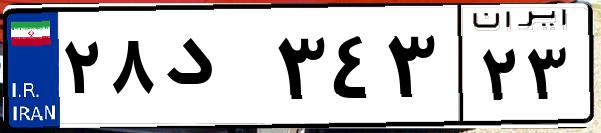2: (57, 26, 110, 100), (475, 38, 525, 113)
3: (270, 28, 330, 110), (385, 28, 445, 110), (525, 38, 570, 115)
4: (330, 28, 385, 110)
8: (110, 28, 158, 98)
د: (158, 20, 270, 120)
